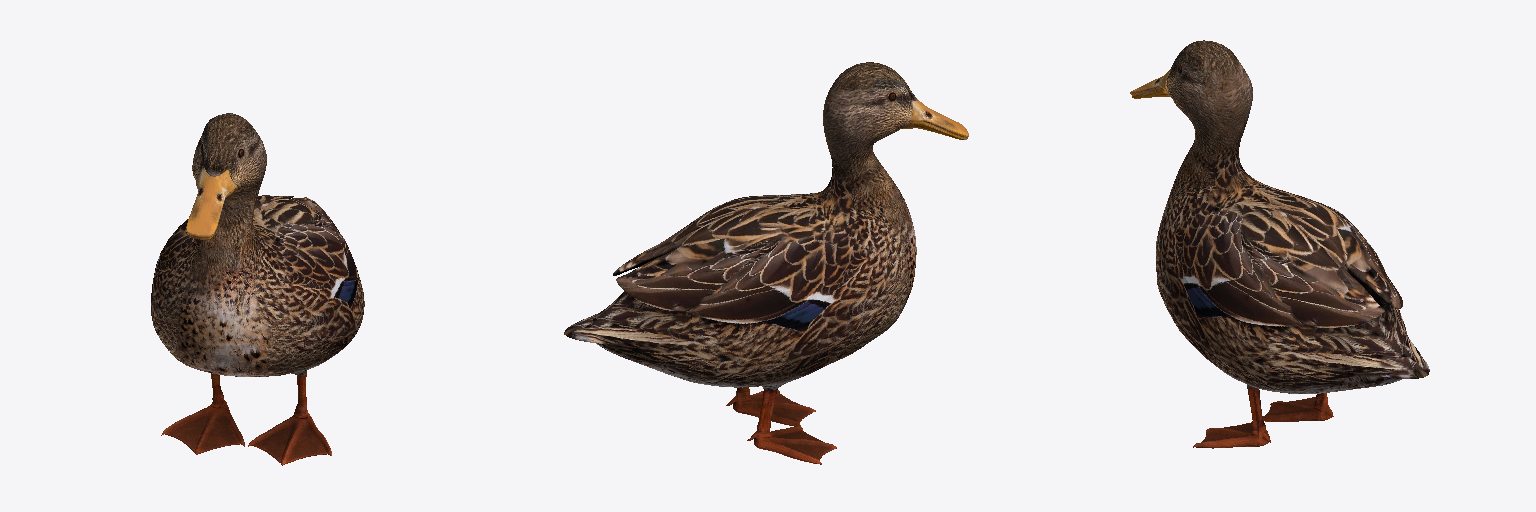
3 renders of one model, left to right at view 1: azimuth 30°, elevation 25°; view 2: azimuth 150°, elevation 25°; view 3: azimuth 270°, elevation 25°, orthographic.
Parts seen in each view (by area): view 1: 12249_Bird_v1_L2.003; view 2: 12249_Bird_v1_L2.003; view 3: 12249_Bird_v1_L2.003.
Part boxes in pixels (bbox=[...]): 12249_Bird_v1_L2.003: bbox=[151, 113, 364, 465]; 12249_Bird_v1_L2.003: bbox=[564, 62, 968, 464]; 12249_Bird_v1_L2.003: bbox=[1130, 40, 1429, 448].
Size of the model in its own units: 2.2 by 2.82 by 2.12.
1 materials, 1 textured.